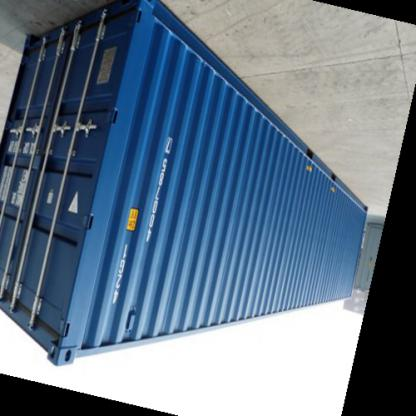Damage: (31, 314, 63, 341)
